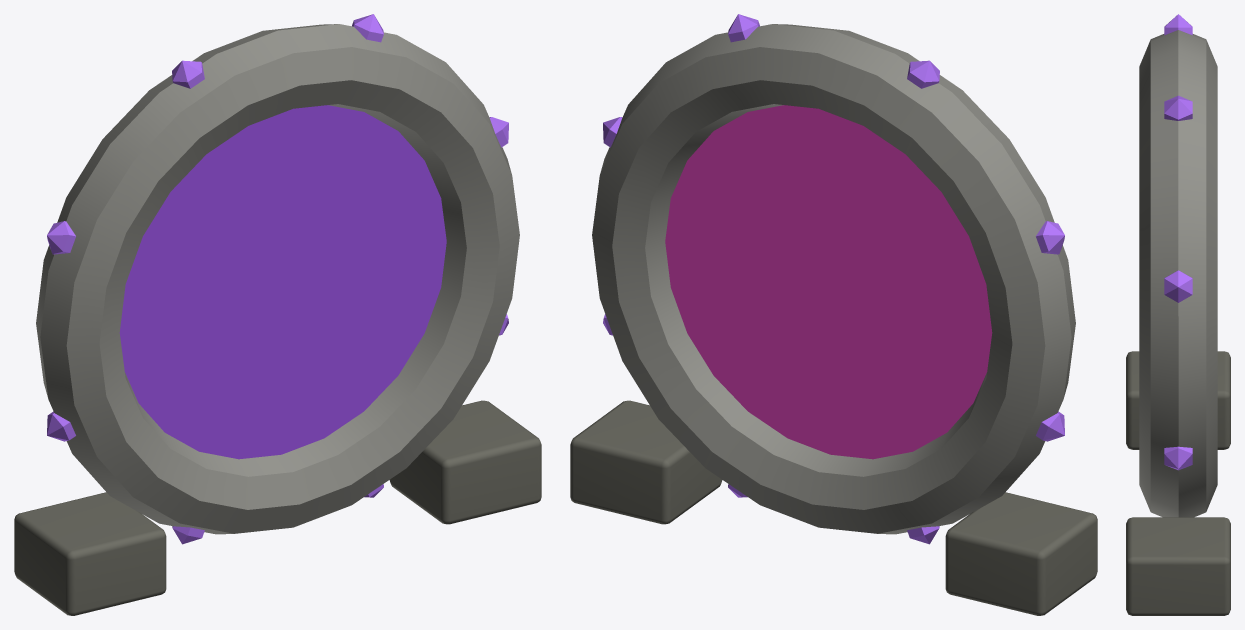
Rendered from Portal.fbx.
3 renders of one model, left to right at view 1: azimuth 30°, elevation 25°; view 2: azimuth 150°, elevation 25°; view 3: azimuth 270°, elevation 25°, orthographic. The views are drawn at different scales.
Visible parts, largest first — view 1: Portal; view 2: Portal; view 3: Portal.
Part boxes in pixels (box(x1,y1,x2,y2)): Portal: box(14, 14, 541, 615); Portal: box(570, 14, 1097, 615); Portal: box(1126, 14, 1230, 615).
Bounding box in the file's own units: 7.6 × 7.8 × 1.6.
Materials: 1 (1 with a texture image).
